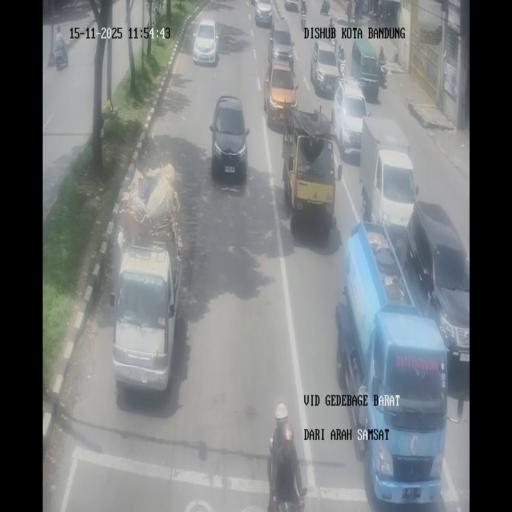car: (110, 238, 182, 393), (209, 94, 249, 181), (333, 80, 369, 159), (310, 40, 340, 97), (268, 15, 295, 73), (192, 17, 220, 65), (253, 0, 273, 27), (285, 0, 299, 11)
motorcycle: (54, 42, 68, 70), (367, 7, 381, 25), (338, 54, 346, 79), (380, 64, 388, 86), (354, 0, 361, 24), (320, 0, 330, 16), (300, 10, 306, 32), (330, 30, 336, 51), (300, 0, 307, 13)
truck: (336, 222, 449, 500), (281, 106, 338, 232), (360, 119, 416, 236), (350, 35, 381, 101)
